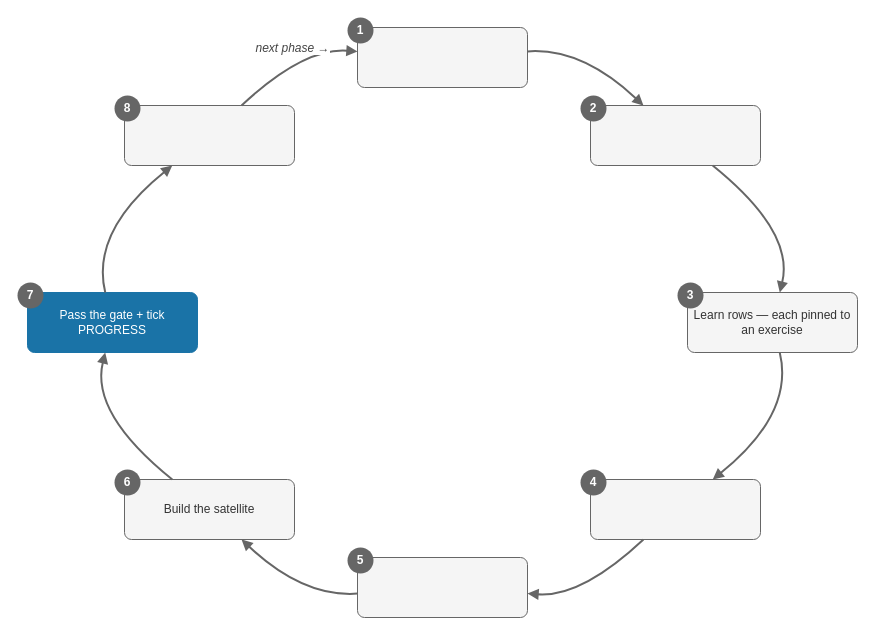
Image size: 875x635. Some labels were removed from this diagram. The box of each missing label's shape, as (x1, y1, x2, y2) in pixels:
Build: grow the platform (PRs): (590, 478, 760, 540)
Prove-it assignment: (356, 556, 528, 618)
Publish one post: (124, 104, 294, 166)
Re-verify the tools: (590, 104, 760, 166)
Read the terms (GLOSSARY): (356, 26, 528, 88)
